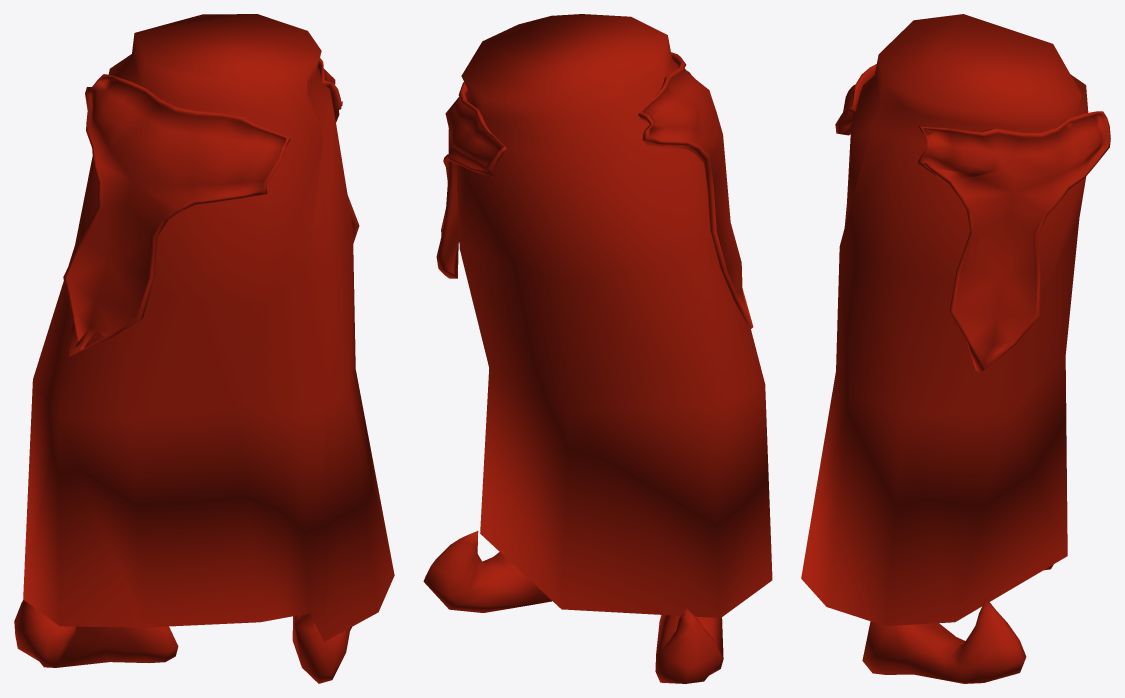
File: bot_000055.obj
The picture shows the model from 3 angles, left to right: view 1: azimuth 30°, elevation 25°; view 2: azimuth 150°, elevation 25°; view 3: azimuth 270°, elevation 25°; orthographic projection. The views are drawn at different scales.
Visible parts, largest first — view 1: LowPoly_Warlock.004_Plane.004; view 2: LowPoly_Warlock.004_Plane.004; view 3: LowPoly_Warlock.004_Plane.004.
Part boxes in pixels (bbox=[...]): LowPoly_Warlock.004_Plane.004: bbox=[14, 14, 394, 683]; LowPoly_Warlock.004_Plane.004: bbox=[423, 14, 772, 683]; LowPoly_Warlock.004_Plane.004: bbox=[801, 14, 1110, 683].
Size of the model in its own units: 0.6178 by 1.14 by 0.5358.
